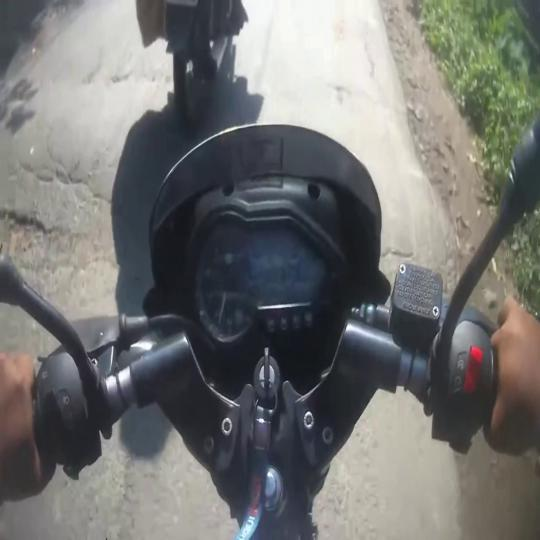Speed Bump: (0, 74, 446, 261)
